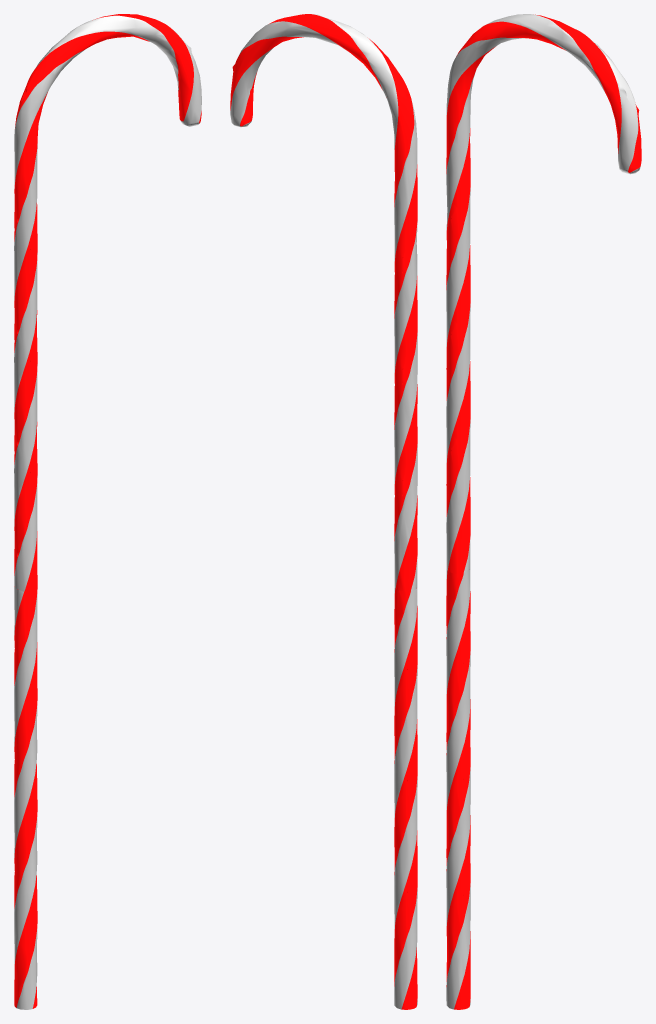
The model's file is CandyCane.fbx.
3 renders of one model, left to right at view 1: azimuth 30°, elevation 25°; view 2: azimuth 150°, elevation 25°; view 3: azimuth 330°, elevation 25°, orthographic. The views are drawn at different scales.
Visible parts, largest first — view 1: polySurface2; view 2: polySurface2; view 3: polySurface2.
Boxes of the visible parts, box(x1,y1,x2,y2) form: polySurface2: box(14, 14, 201, 1009); polySurface2: box(230, 14, 417, 1009); polySurface2: box(446, 14, 641, 1009).
Bounding box in the file's own units: 0.0204 × 0.1027 × 0.00227.
